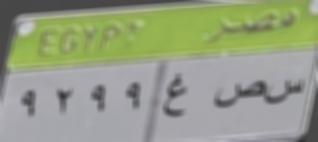2: (55, 84, 75, 117)
9: (16, 87, 42, 122), (122, 80, 145, 112), (90, 82, 107, 114)
ghayn: (160, 72, 188, 122)
saad: (212, 80, 266, 113)
seen: (267, 75, 307, 111)
